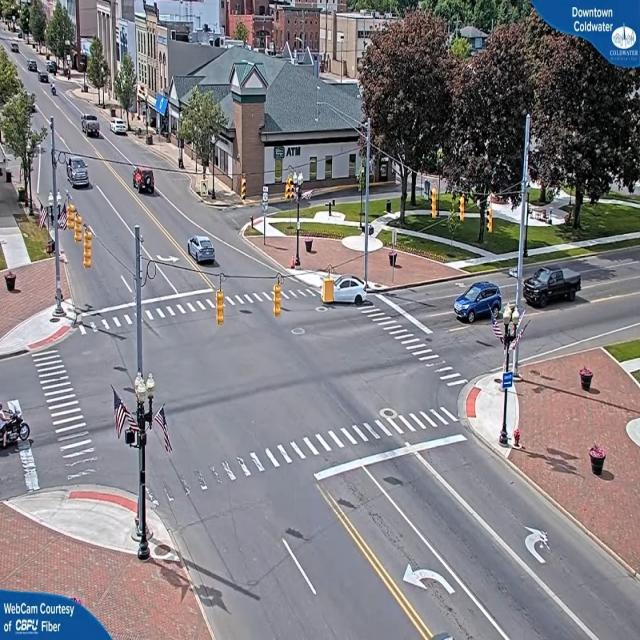car: (524, 267, 582, 310), (454, 283, 502, 324), (321, 275, 373, 306), (188, 236, 216, 264), (131, 166, 157, 194), (68, 156, 90, 188), (111, 119, 129, 136)
motorbike: (0, 403, 30, 450)
